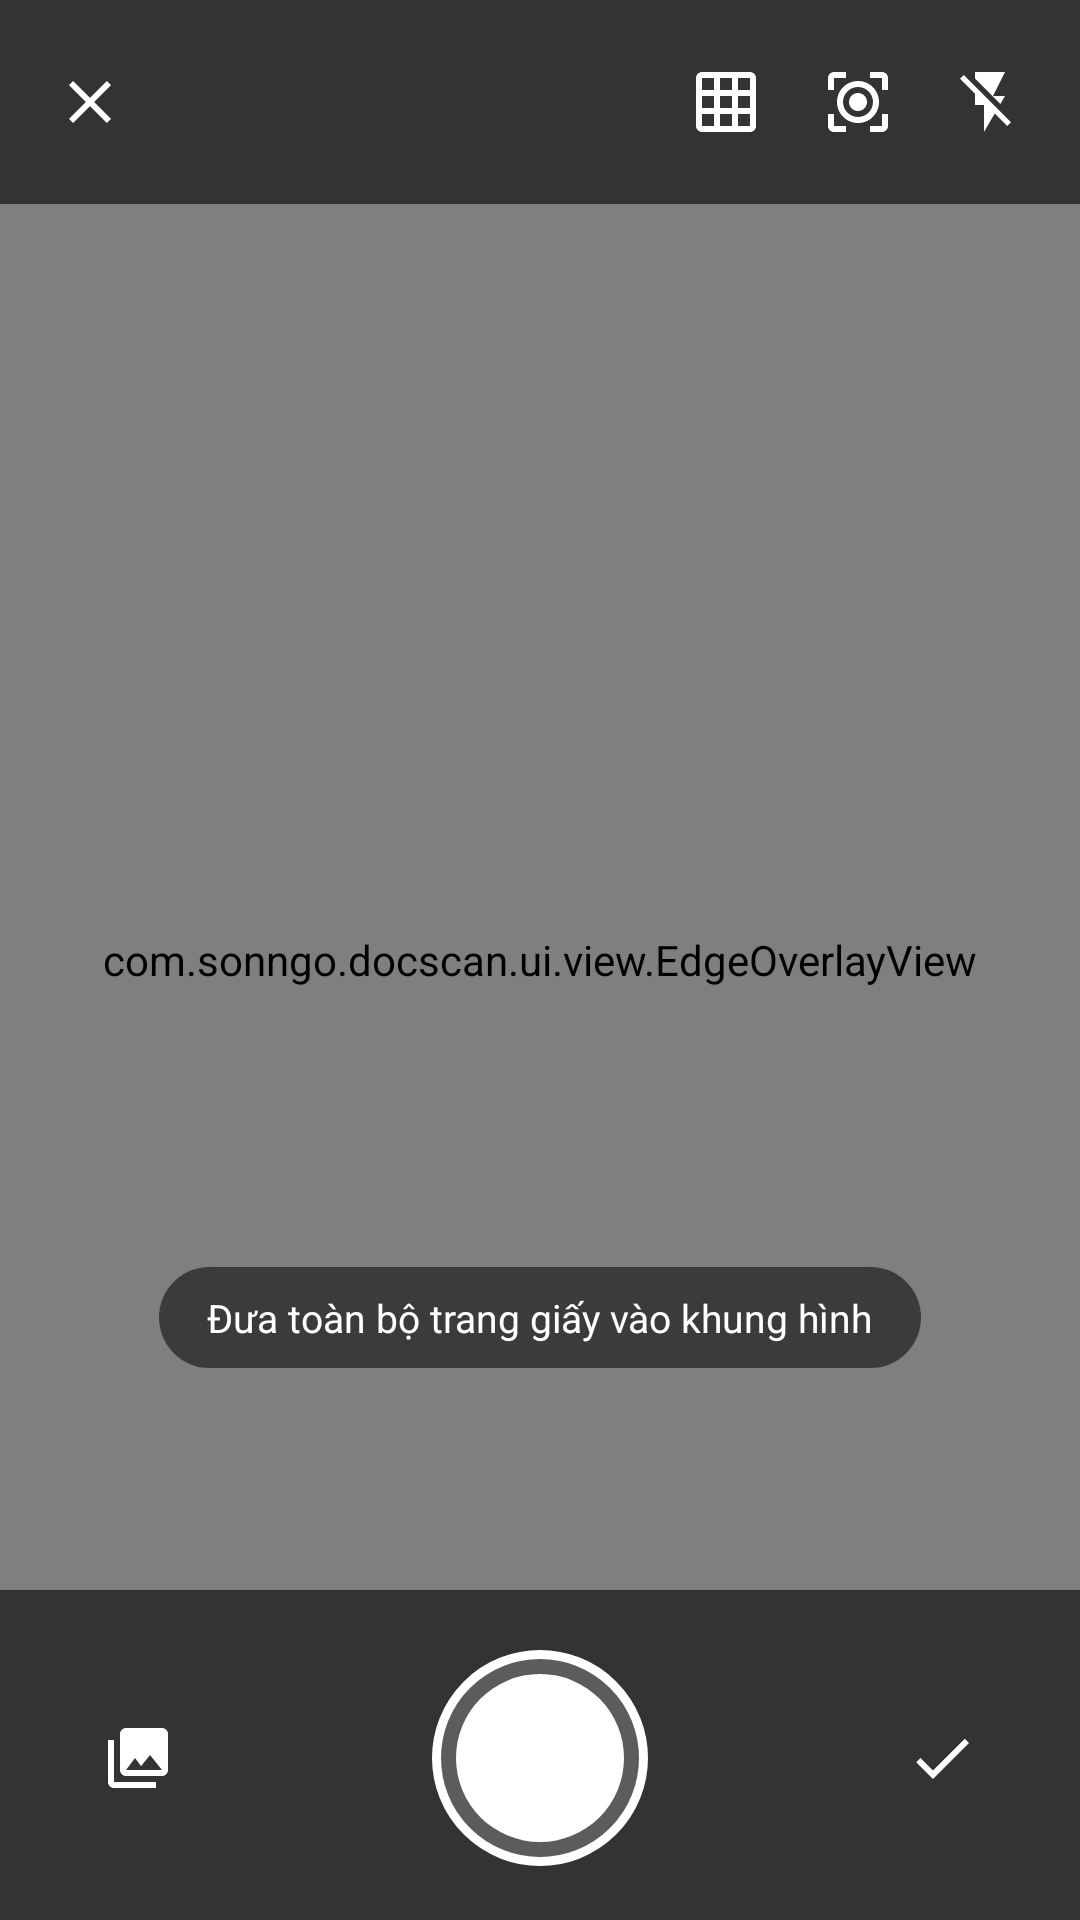

Icon bounding boxes for this 1080*1920 phone screenshot, format box(x1, y1, x2, y2):
auto capture: box(828, 72, 888, 132)
Chọn ảnh từ máy: box(108, 1728, 168, 1788)
Lưới canh khung: box(696, 72, 756, 132)
Xong: box(916, 1739, 969, 1779)
Đèn flash: box(960, 72, 1011, 132)
Đóng: box(69, 81, 111, 123)
